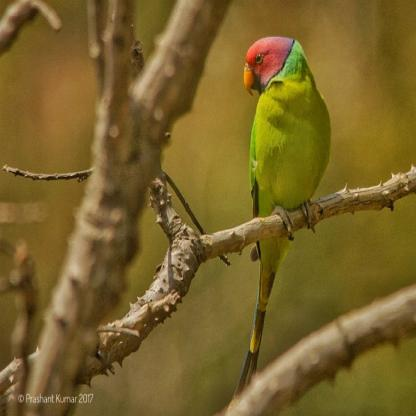Burung: (226, 35, 331, 412)
